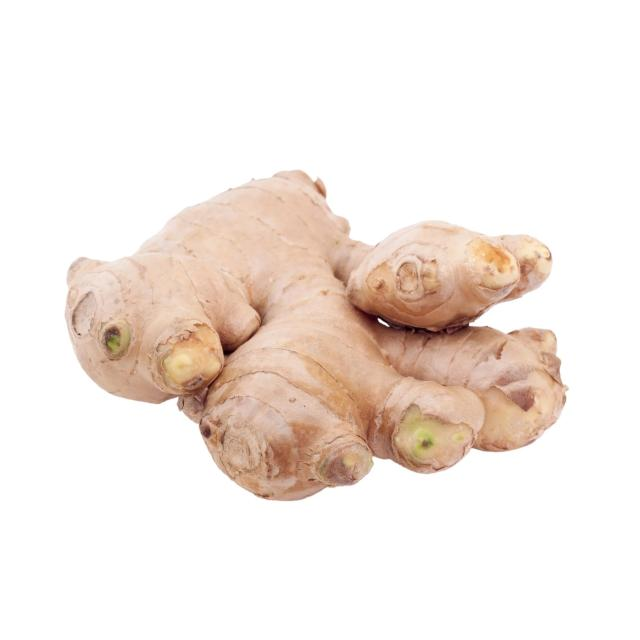ginger-root: (37, 156, 624, 516)
